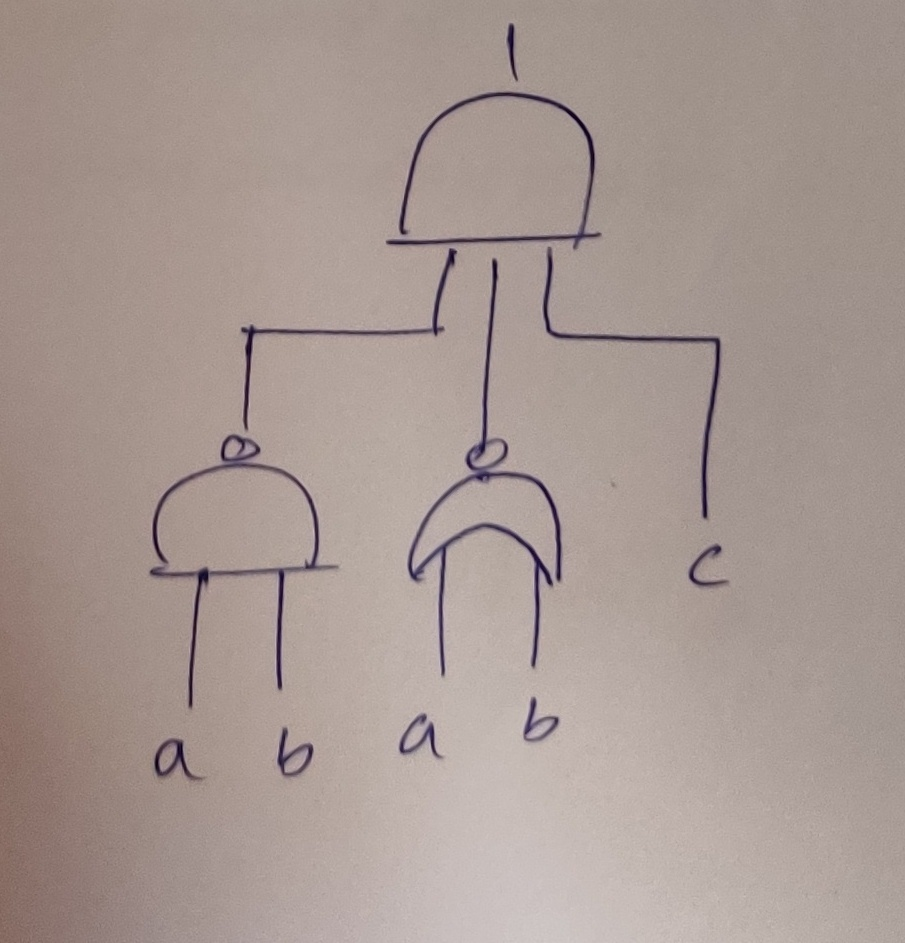and: (375, 60, 656, 283)
nand: (95, 386, 358, 614)
nor: (385, 423, 593, 615)
